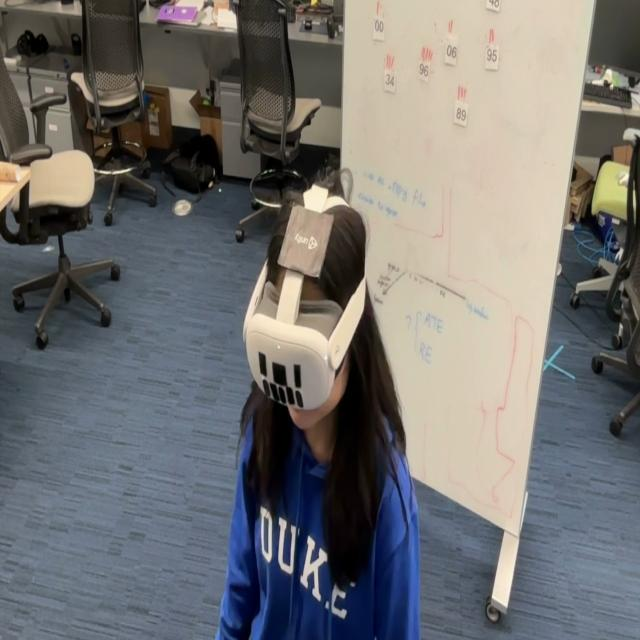Headset: (242, 180, 368, 412)
UnityLogo: (276, 201, 335, 281)
